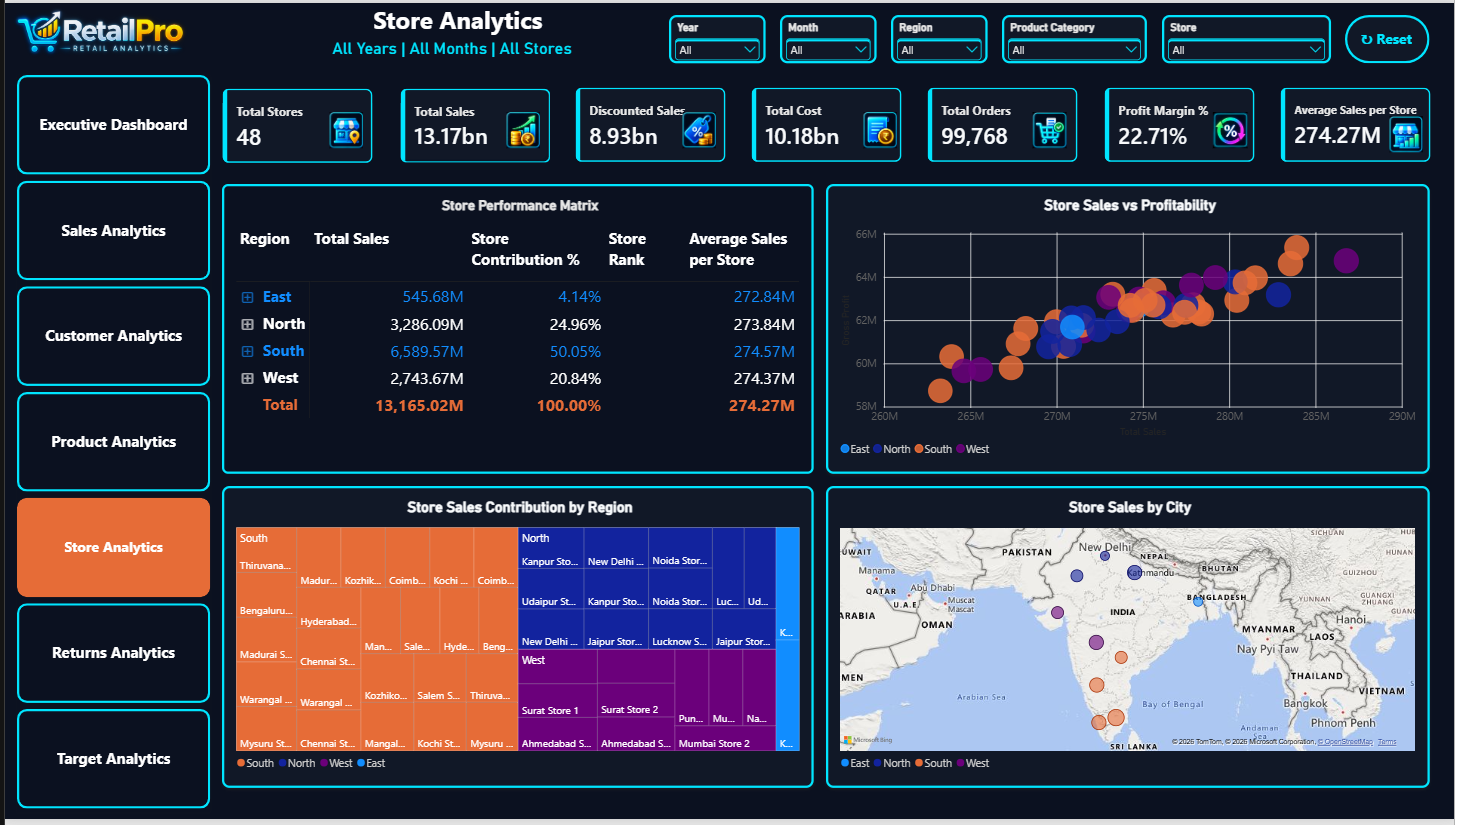

Layout of this report page (visuals, bound fields, positions):
{"tool":"powerbi","page":{"name":"Store Analytics","canvas":[1920,1080],"ordinal":4},"visuals":[{"type":"cardVisual","fields":{"Data":["All_Measures.Total Stores"]},"box":[288,112,200,100],"z":0},{"type":"cardVisual","fields":{"Data":["All_Measures.Total Sales"]},"box":[521.6,111.3,200,100],"z":1000},{"type":"cardVisual","fields":{"Data":["All_Measures.Average Sales per Store"]},"box":[1689.3,111.3,200,100],"z":2000},{"type":"cardVisual","fields":{"Data":["All_Measures.Total Orders"]},"box":[1222.2,111.3,200,100],"z":3000},{"type":"pivotTable","title":"Store Performance Matrix","fields":{"Rows":["DimStore.Region","DimStore.State","DimStore.City","DimStore.StoreName"],"Values":["All_Measures.Total Sales","All_Measures.Store Contribution %","All_Measures.Store Rank","All_Measures.Average Sales per Store"]},"box":[288,240,784,384],"z":4000},{"type":"treemap","title":"Store Sales Contribution by Region","fields":{"Details":["DimStore.StoreName"],"Group":["DimStore.Region"],"Values":["All_Measures.Total Sales"]},"box":[288,640,784,400],"z":5000},{"type":"scatterChart","title":"Store Sales vs Profitability","fields":{"Category":["DimStore.StoreName"],"Series":["DimStore.Region"],"Size":["All_Measures.Total Orders"],"X":["All_Measures.Total Sales"],"Y":["All_Measures.Gross Profit"]},"box":[1088,240,800,384],"z":6000},{"type":"map","title":"Store Sales by City","fields":{"Category":["DimStore.State","DimStore.City"],"Series":["DimStore.Region"],"Size":["All_Measures.Total Sales"]},"box":[1088,640,800,400],"z":7000},{"type":"slicer","fields":{"Values":["DimDate.Year"]},"box":[880,16,128,64],"z":8000},{"type":"slicer","fields":{"Values":["DimDate.MonthName"]},"box":[1027.2,16,128,64],"z":9000},{"type":"slicer","fields":{"Values":["DimStore.Region"]},"box":[1174.4,16,128,64],"z":10000},{"type":"slicer","fields":{"Values":["DimStore.StoreName"]},"box":[1532.8,16,224,64],"z":11000},{"type":"slicer","fields":{"Values":["DimProduct.Category"]},"box":[1321.6,16,192,64],"z":12000},{"type":"image","box":[0,0,256,80],"z":13000},{"type":"textbox","box":[368,48,448,32],"z":14000},{"type":"textbox","box":[432,0,336,48],"z":15000},{"type":"actionButton","box":[1776,16,112,64],"z":16000},{"type":"pageNavigator","box":[16,96,256,976],"z":17000},{"type":"cardVisual","fields":{"Data":["All_Measures.Total Cost"]},"box":[988.7,111.3,200,100],"z":18000},{"type":"cardVisual","fields":{"Data":["All_Measures.Profit Margin %"]},"box":[1455.8,111.3,200,100],"z":19000},{"type":"cardVisual","fields":{"Data":["All_Measures.Discounted Sales"]},"box":[755.1,111.3,200,100],"z":20000},{"type":"image","box":[412,144,80,48],"z":21000},{"type":"image","box":[647,144,80,48],"z":22000},{"type":"image","box":[880,144,80,48],"z":23000},{"type":"image","box":[1120,144,80,48],"z":24000},{"type":"image","box":[1584,144,80,48],"z":25000},{"type":"image","box":[1344,144,80,48],"z":26000},{"type":"image","box":[1817,150,80,48],"z":27000}]}

Visuals, with their boxes in screenshot pixels (x1, y1, x2, y2), scaled from the page's 1920x1080 canvas onto the 1462x825 screenshot:
cardVisual - All_Measures.Total Stores: 219,86,372,162
cardVisual - All_Measures.Total Sales: 397,85,549,161
cardVisual - All_Measures.Average Sales per Store: 1286,85,1439,161
cardVisual - All_Measures.Total Orders: 931,85,1083,161
"Store Performance Matrix" pivotTable: 219,183,816,477
"Store Sales Contribution by Region" treemap: 219,489,816,794
"Store Sales vs Profitability" scatterChart: 828,183,1438,477
"Store Sales by City" map: 828,489,1438,794
slicer - DimDate.Year: 670,12,768,61
slicer - DimDate.MonthName: 782,12,880,61
slicer - DimStore.Region: 894,12,992,61
slicer - DimStore.StoreName: 1167,12,1338,61
slicer - DimProduct.Category: 1006,12,1153,61
image: 0,0,195,61
textbox: 280,37,621,61
textbox: 329,0,585,37
actionButton: 1352,12,1438,61
pageNavigator: 12,73,207,819
cardVisual - All_Measures.Total Cost: 753,85,905,161
cardVisual - All_Measures.Profit Margin %: 1109,85,1261,161
cardVisual - All_Measures.Discounted Sales: 575,85,727,161
image: 314,110,375,147
image: 493,110,554,147
image: 670,110,731,147
image: 853,110,914,147
image: 1206,110,1267,147
image: 1023,110,1084,147
image: 1384,115,1444,151
